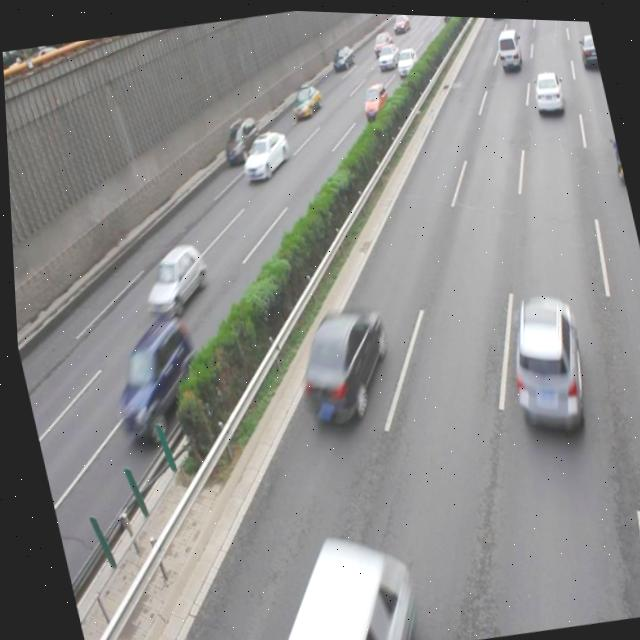car: (94, 308, 210, 450), (280, 295, 398, 433), (491, 285, 594, 436), (132, 236, 210, 319), (234, 125, 293, 181), (215, 110, 262, 163), (526, 64, 564, 111), (284, 76, 324, 120), (355, 77, 392, 120)
truck: (256, 523, 414, 640)
